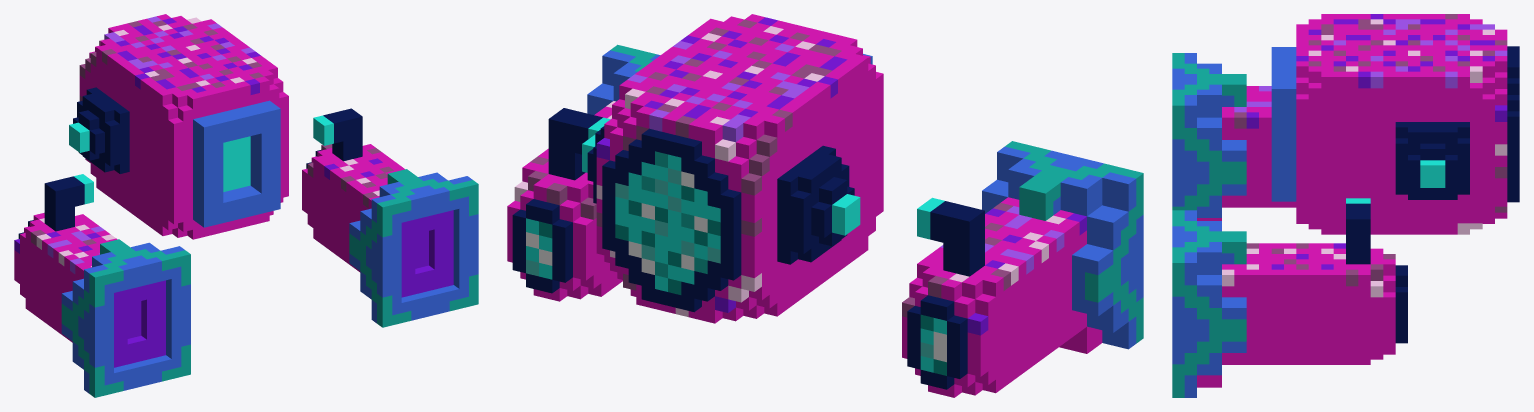
File: Character_Drone_New.obj
The picture shows the model from 3 angles, left to right: view 1: azimuth 30°, elevation 25°; view 2: azimuth 150°, elevation 25°; view 3: azimuth 270°, elevation 25°; orthographic projection. The views are drawn at different scales.
Size of the model in its own units: 4 by 2.2 by 2.8.
Materials: 1 (1 with a texture image).
